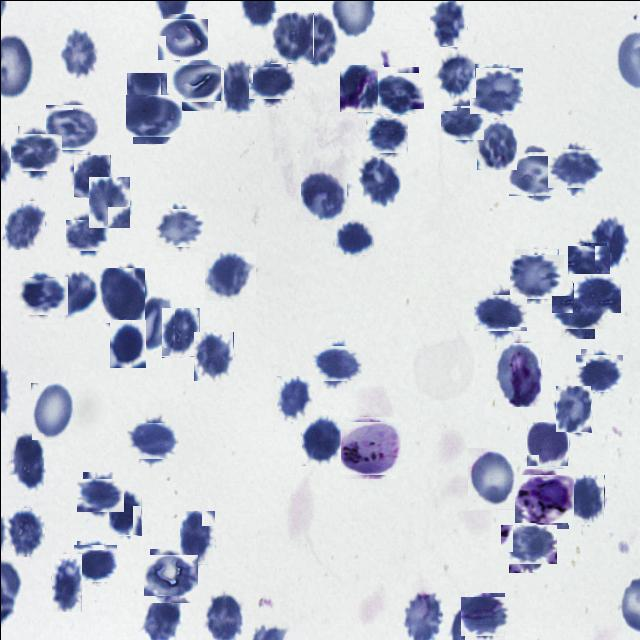red blood cell: (467, 447, 516, 509), (511, 147, 562, 199), (204, 251, 256, 301), (98, 267, 144, 322), (128, 90, 178, 140), (471, 65, 521, 115), (511, 251, 561, 300), (47, 102, 96, 151), (30, 382, 72, 439), (550, 144, 598, 192), (146, 550, 194, 598), (504, 520, 552, 568), (300, 169, 346, 219), (130, 296, 174, 347), (126, 72, 167, 126), (295, 11, 336, 65), (357, 155, 400, 206), (270, 12, 313, 63), (58, 27, 100, 79), (88, 176, 130, 228), (174, 59, 220, 106), (160, 16, 206, 62), (220, 59, 258, 114), (339, 64, 383, 111), (589, 214, 626, 269), (56, 269, 98, 317), (193, 331, 233, 381), (301, 414, 340, 465), (129, 418, 174, 462), (13, 129, 58, 173), (4, 200, 44, 249), (4, 507, 44, 556), (178, 510, 214, 564), (567, 474, 605, 525), (478, 290, 522, 334), (20, 272, 64, 316), (555, 290, 599, 334), (157, 204, 201, 248), (574, 270, 618, 314), (462, 594, 506, 638), (476, 121, 516, 169), (434, 49, 474, 97), (161, 306, 199, 356), (526, 421, 568, 466), (10, 432, 42, 490), (577, 351, 620, 394), (314, 342, 358, 384), (429, 0, 467, 46), (51, 553, 81, 611), (109, 319, 145, 367), (379, 69, 421, 110), (555, 385, 591, 432), (276, 375, 312, 421), (250, 62, 290, 102), (74, 542, 114, 582), (79, 474, 119, 514), (73, 154, 110, 197), (442, 103, 481, 142), (568, 244, 608, 282), (108, 489, 141, 535), (366, 116, 405, 154), (68, 216, 104, 254), (334, 220, 373, 254)
trophozoite: (341, 418, 398, 476), (494, 342, 540, 406), (517, 471, 571, 525)
